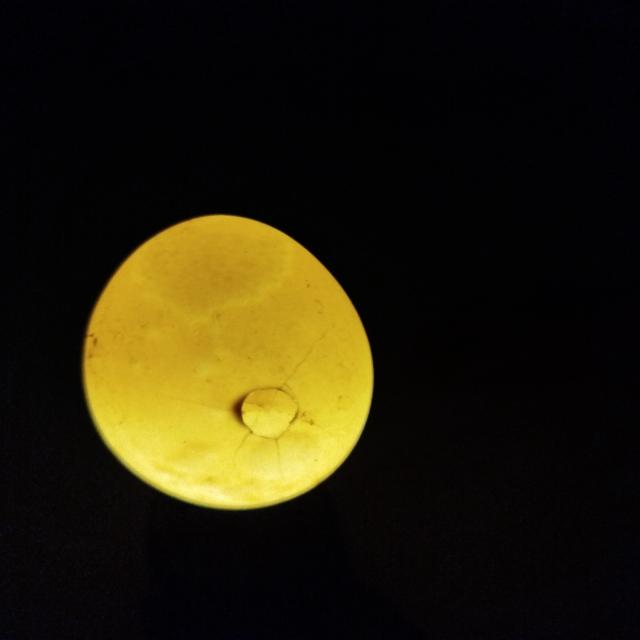Camara de Ar: (121, 215, 289, 313)
Rachadura: (171, 350, 322, 465)
